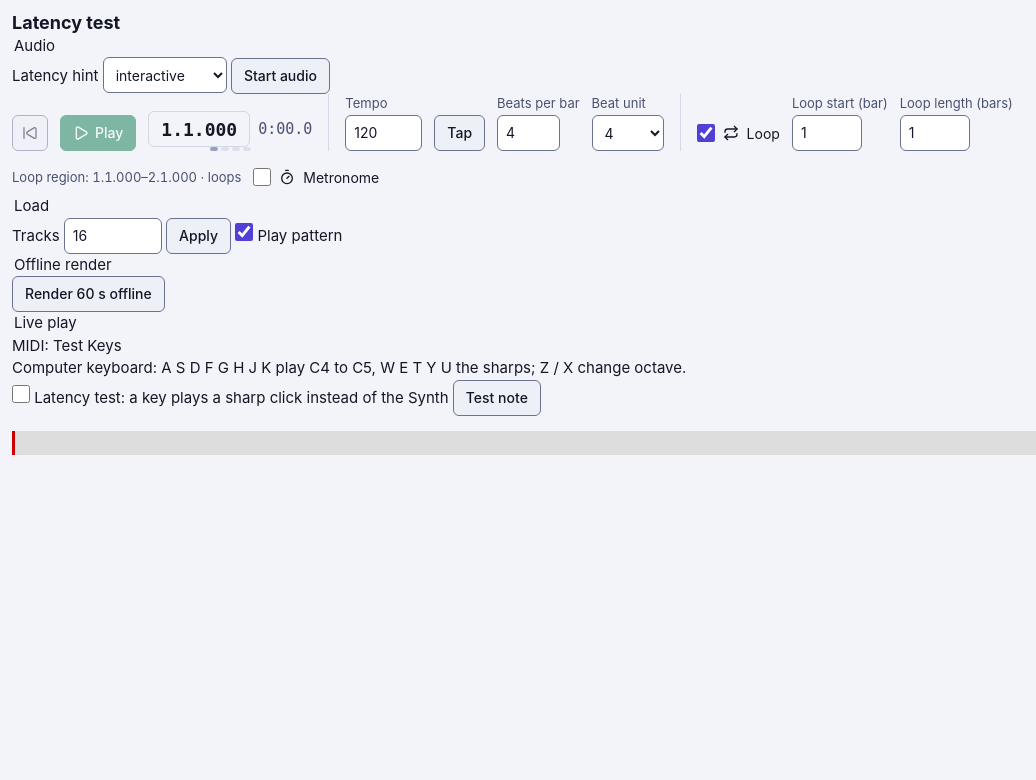
Scenario: the computer keyboard plays the engine and shows its octave
The image size is (1036, 780).
Click the button "Start audio".
click(280, 76)  # box [231, 58, 330, 94]
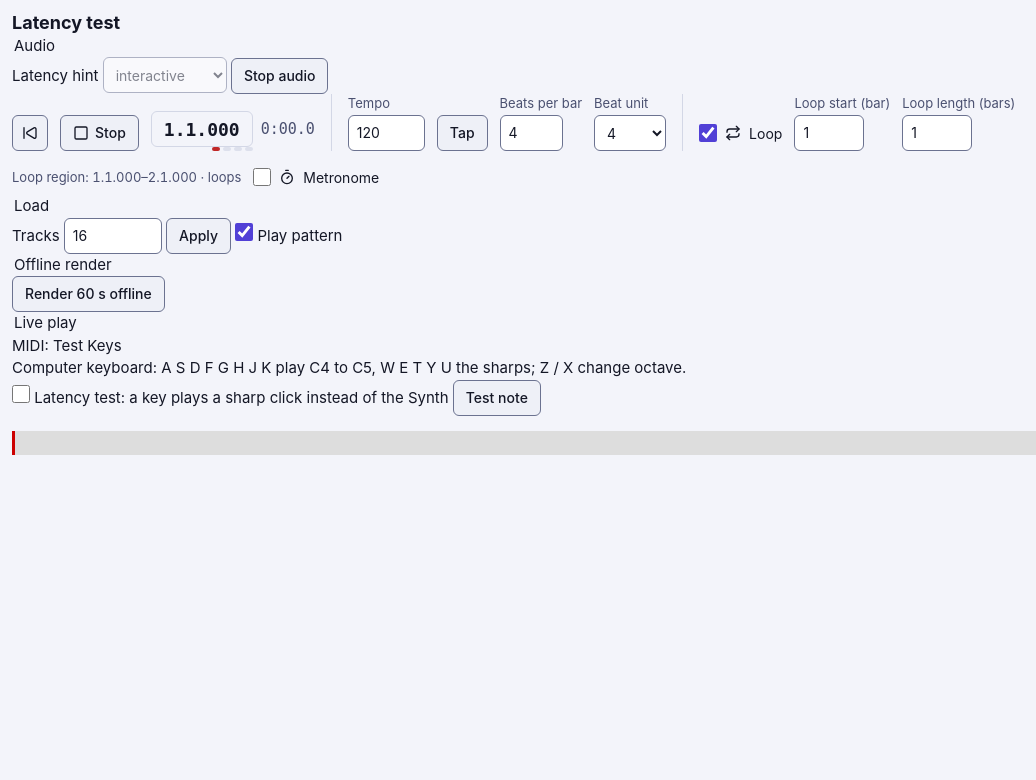
Expected: the text "play C4 to C5" is shown, [12, 358, 686, 377]
Expected: the button "Stop audio" is shown, [231, 58, 328, 94]
Press KeyA
Press KeyA
Press KeyX
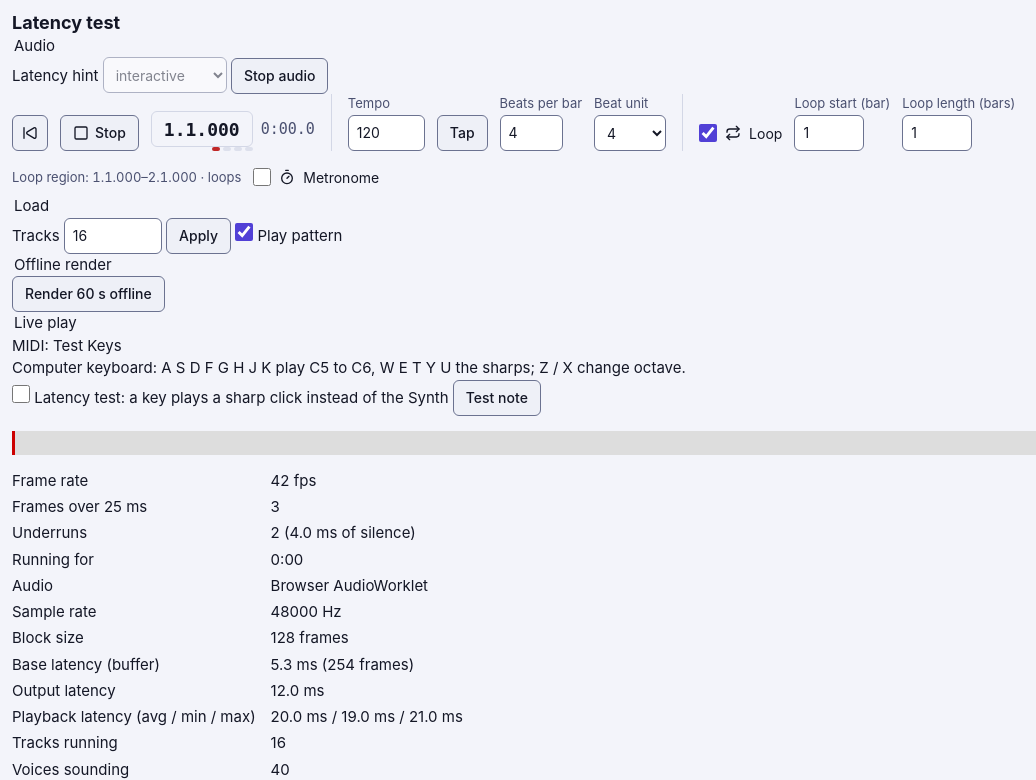
Expected: the text "play C5 to C6" is shown, [12, 358, 686, 377]
